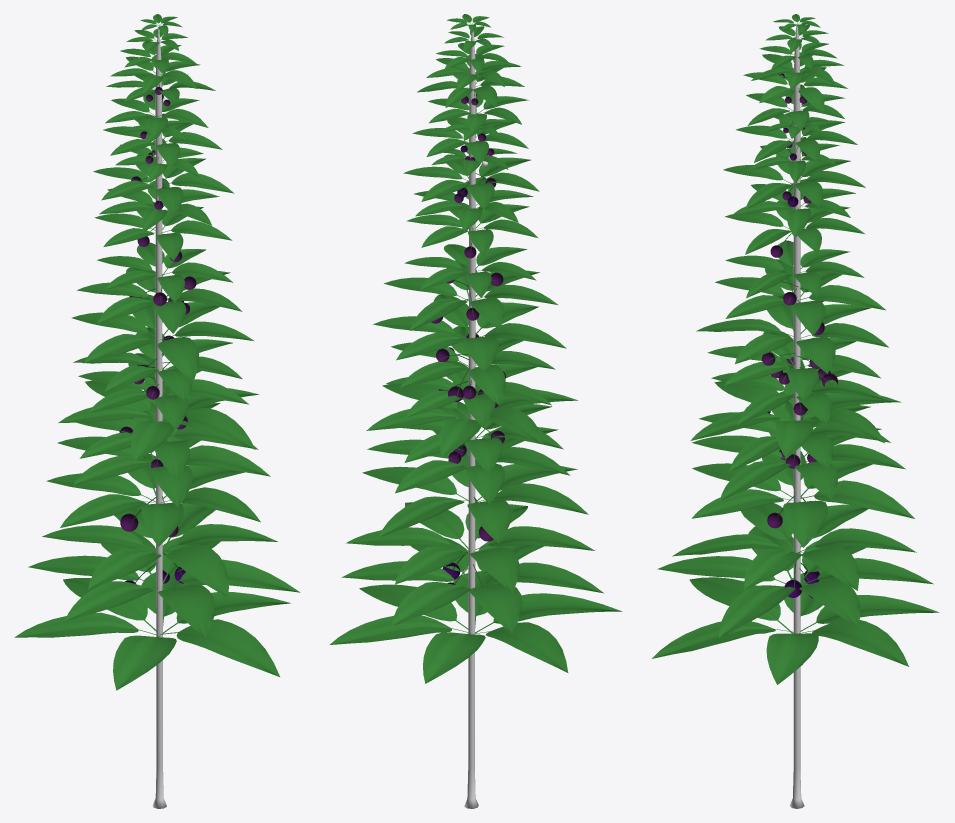
File: Kalingag.glb
3 renders of one model, left to right at view 1: azimuth 30°, elevation 25°; view 2: azimuth 150°, elevation 25°; view 3: azimuth 270°, elevation 25°, orthographic.
Visible parts, largest first — view 1: kalinganleaf002, kalinganleaf001, kalinganleaf021, kalinganleaf004, kalinganleaf029, kalinganleaf006, kalinganleaf005, stem, Circle140_2, Circle178_2, Circle183_2, Circle189_2 (+12 smaller); view 2: kalinganleaf002, kalinganleaf001, kalinganleaf021, kalinganleaf004, kalinganleaf006, kalinganleaf029, kalinganleaf005, stem, Circle140_2, Circle178_2, Circle189_2, Circle183_2 (+12 smaller); view 3: kalinganleaf002, kalinganleaf001, kalinganleaf021, kalinganleaf004, kalinganleaf029, kalinganleaf006, kalinganleaf005, stem, Circle140_2, Circle189_2, Circle183_2, Circle178_2 (+12 smaller).
Boxes of the visible parts, x1,y1,x2,y2 form: kalinganleaf002: (14,572,290,690); kalinganleaf001: (28,527,300,637); kalinganleaf021: (42,503,277,597); kalinganleaf004: (46,453,262,546); kalinganleaf029: (58,369,259,461); kalinganleaf006: (72,294,253,381); kalinganleaf005: (57,418,270,507); stem: (152,26,166,808); Circle140_2: (77,267,242,333); Circle178_2: (73,327,242,401); Circle183_2: (77,401,258,479); Circle189_2: (78,353,248,429); kalinganleaf002: (329,571,622,683); kalinganleaf001: (341,537,603,633); kalinganleaf021: (346,502,594,592); kalinganleaf004: (362,451,588,543); kalinganleaf006: (373,294,566,372); kalinganleaf029: (366,381,578,456); kalinganleaf005: (367,427,570,504); stem: (464,31,478,808); Circle140_2: (384,260,557,330); Circle178_2: (391,326,555,405); Circle189_2: (386,360,551,427); Circle183_2: (400,401,563,473); kalinganleaf002: (652,569,939,684); kalinganleaf001: (657,526,933,637); kalinganleaf021: (672,503,916,590); kalinganleaf004: (691,448,914,547); kalinganleaf029: (690,381,901,458); kalinganleaf006: (696,293,888,373); kalinganleaf005: (692,419,905,500); stem: (789,24,804,808); Circle140_2: (715,259,885,335); Circle189_2: (711,356,885,425); Circle183_2: (699,391,890,471); Circle178_2: (707,331,881,400).
Size of the model in its own units: 0.7987 by 2.46 by 0.8196.
